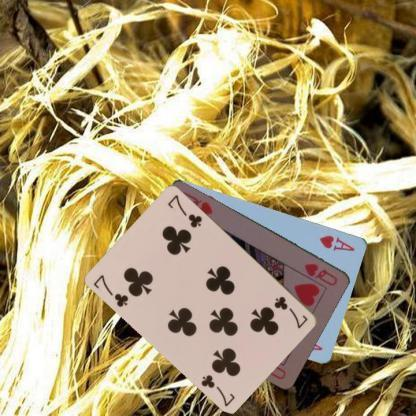7c: (90, 272, 130, 309), (272, 293, 310, 330)
Ah: (317, 232, 357, 252)
Qh: (302, 260, 340, 288)
